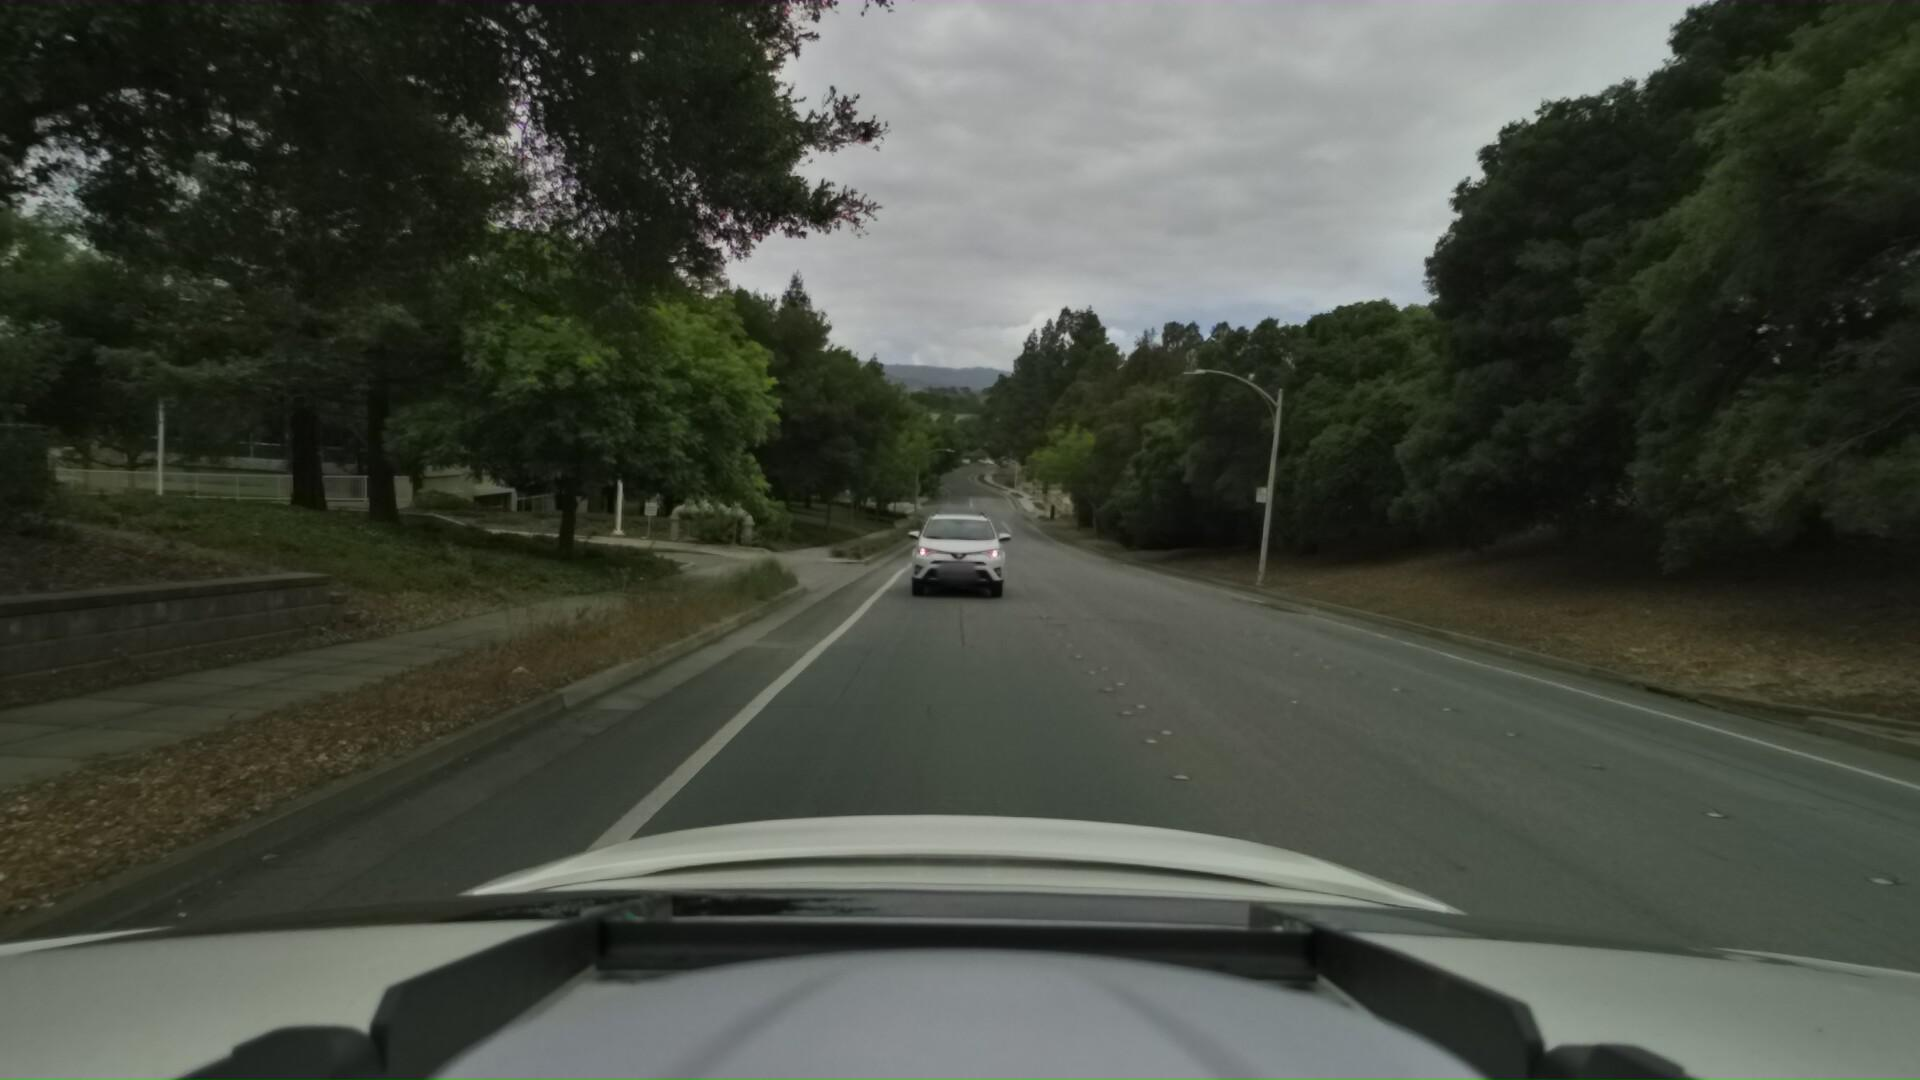car: (905, 500, 1005, 607)
